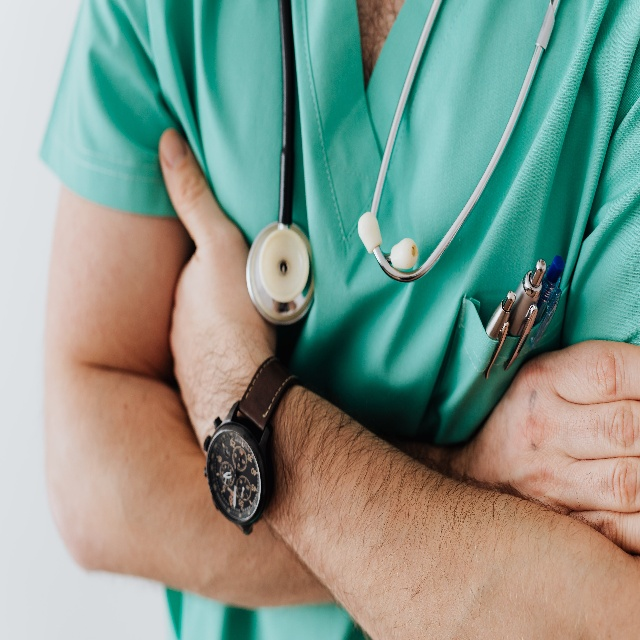Sin_guantes: (158, 130, 281, 458), (453, 339, 640, 548)
